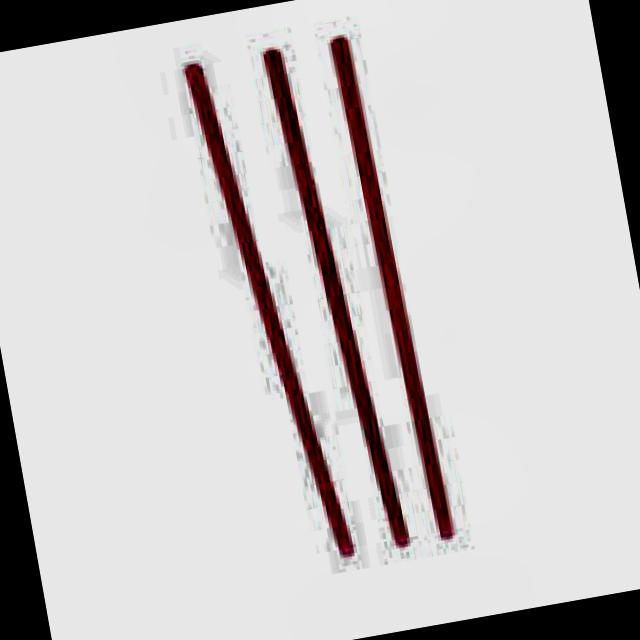plastic straw: (185, 64, 351, 556)
